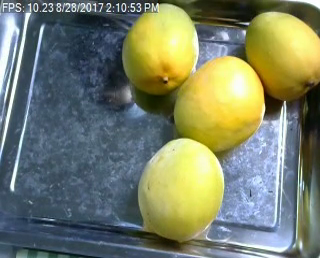Mango: (135, 138, 223, 239), (176, 56, 264, 148), (122, 3, 198, 92), (247, 11, 320, 100)
